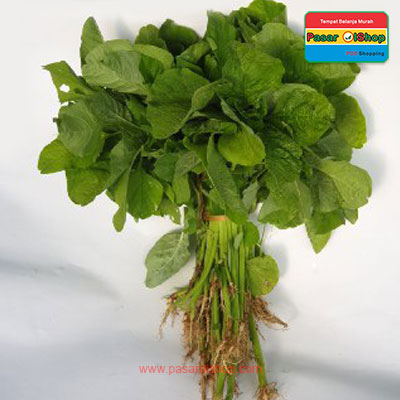Bayam: (38, 76, 367, 363)
